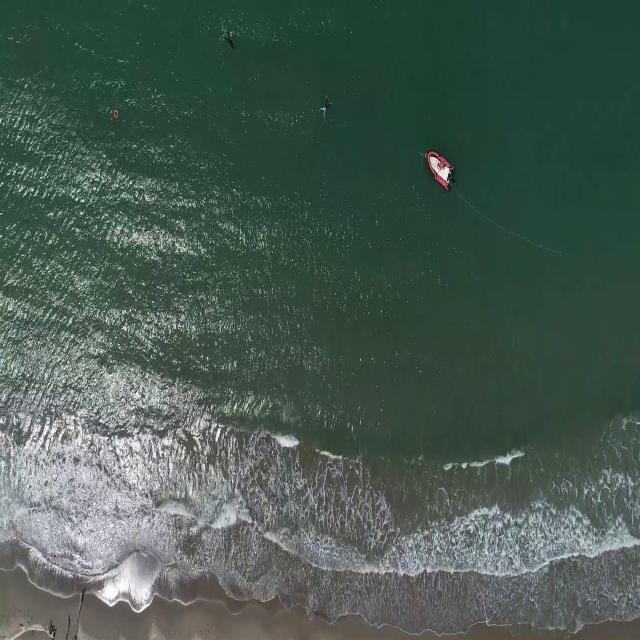boat: (426, 147, 453, 192)
life_buoy: (112, 108, 120, 120)
person: (319, 96, 333, 122), (222, 31, 237, 50)
wood: (64, 586, 86, 640), (0, 620, 61, 638)
